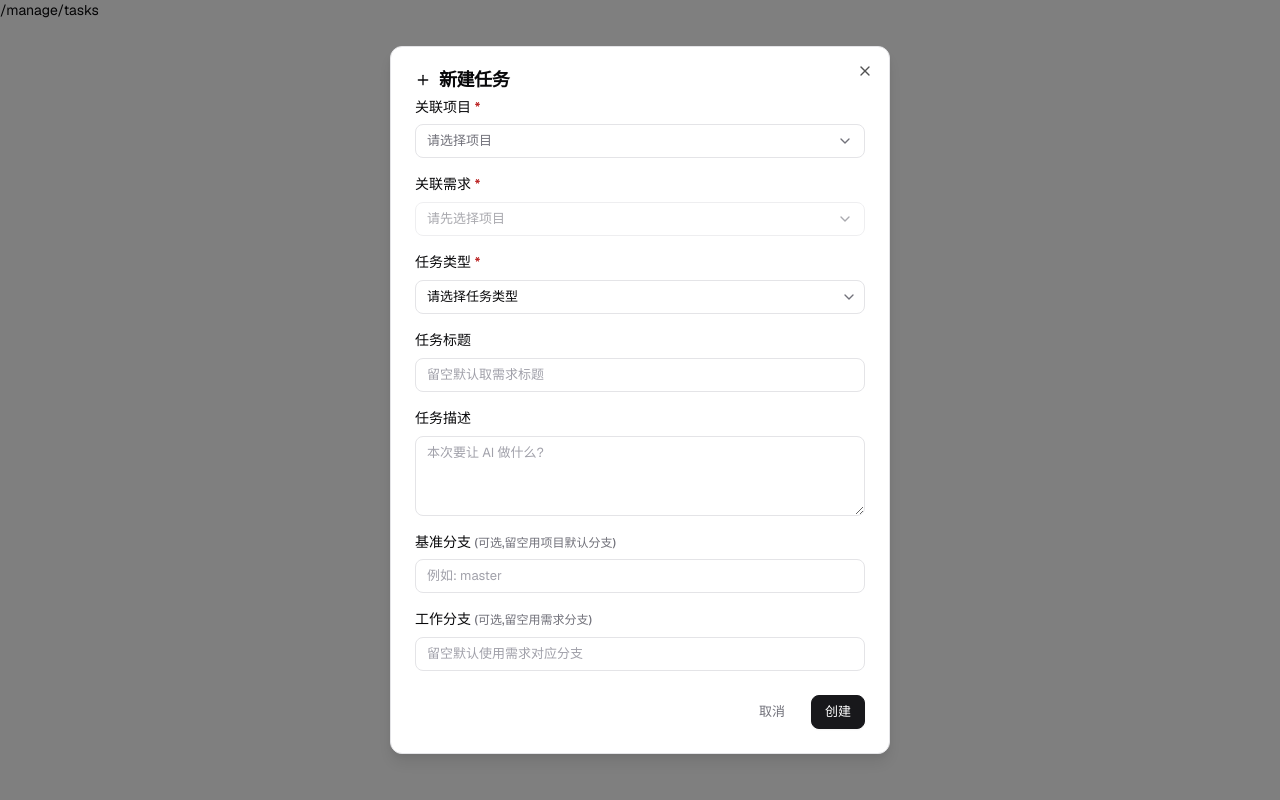
Test: R4 统一表单结构(TaskCreateDialog) › 6. 接口返回错误:显示「创建失败:…」Alert,对话框不关闭、表单保持
This screenshot has width=1280, height=800.
Click the button "请选择项目" at (460, 141), box x1=415 y1=124 x2=865 y2=158
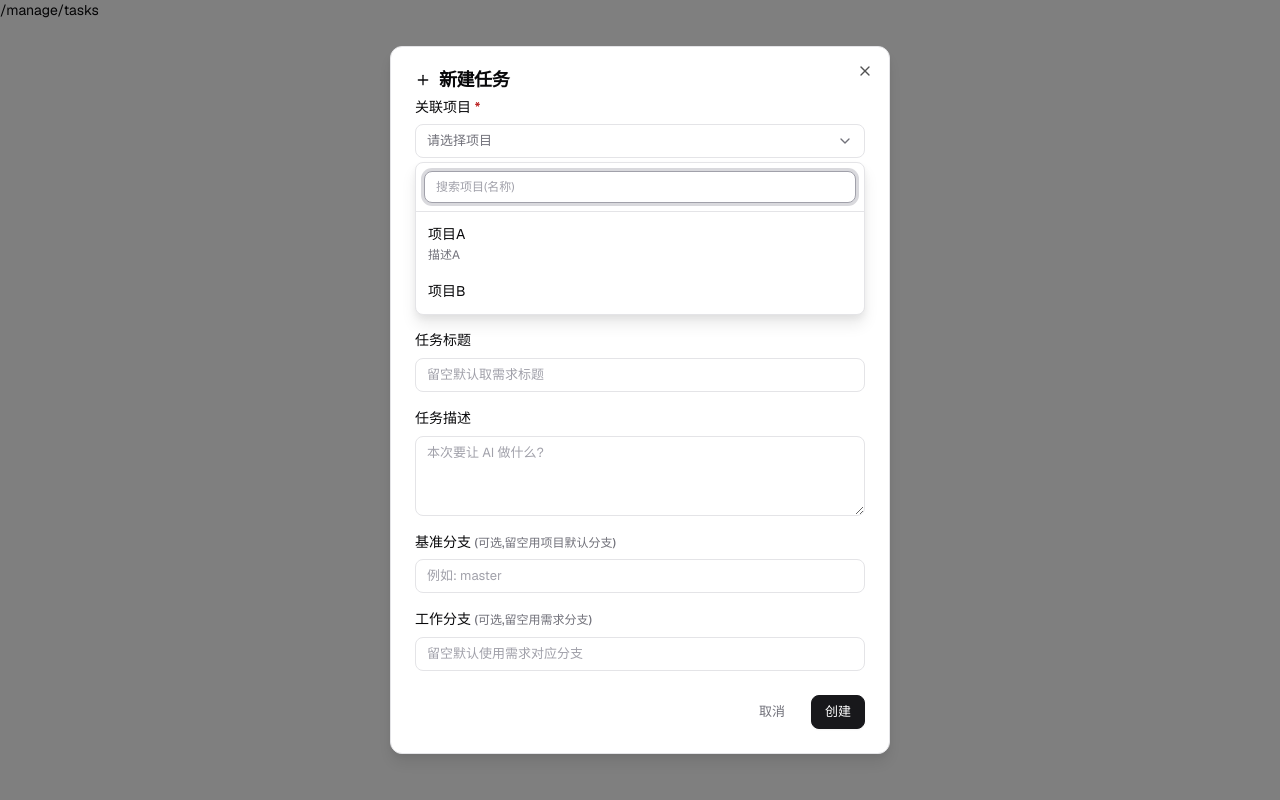
Click the text "项目A" at (447, 234), box x1=428 y1=225 x2=465 y2=243
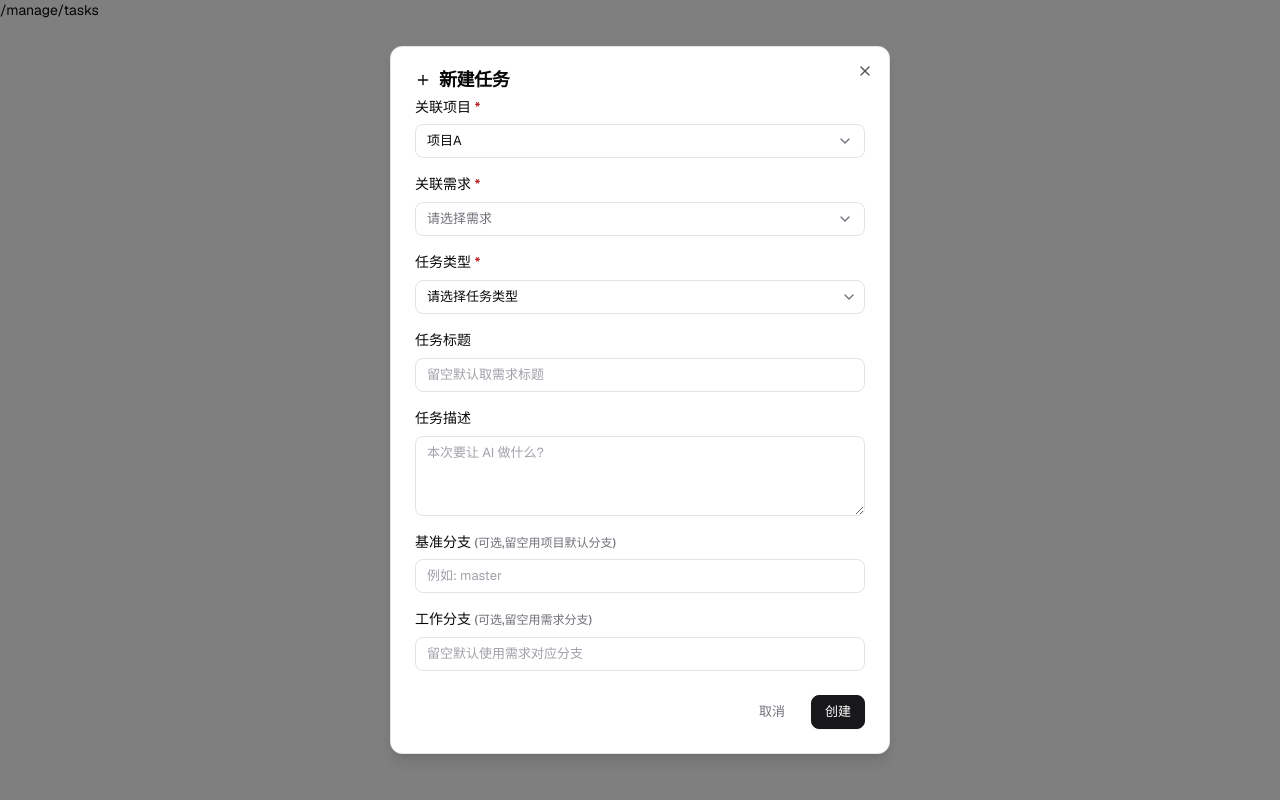
Click the button "请选择需求" at (460, 219), box x1=415 y1=202 x2=865 y2=236
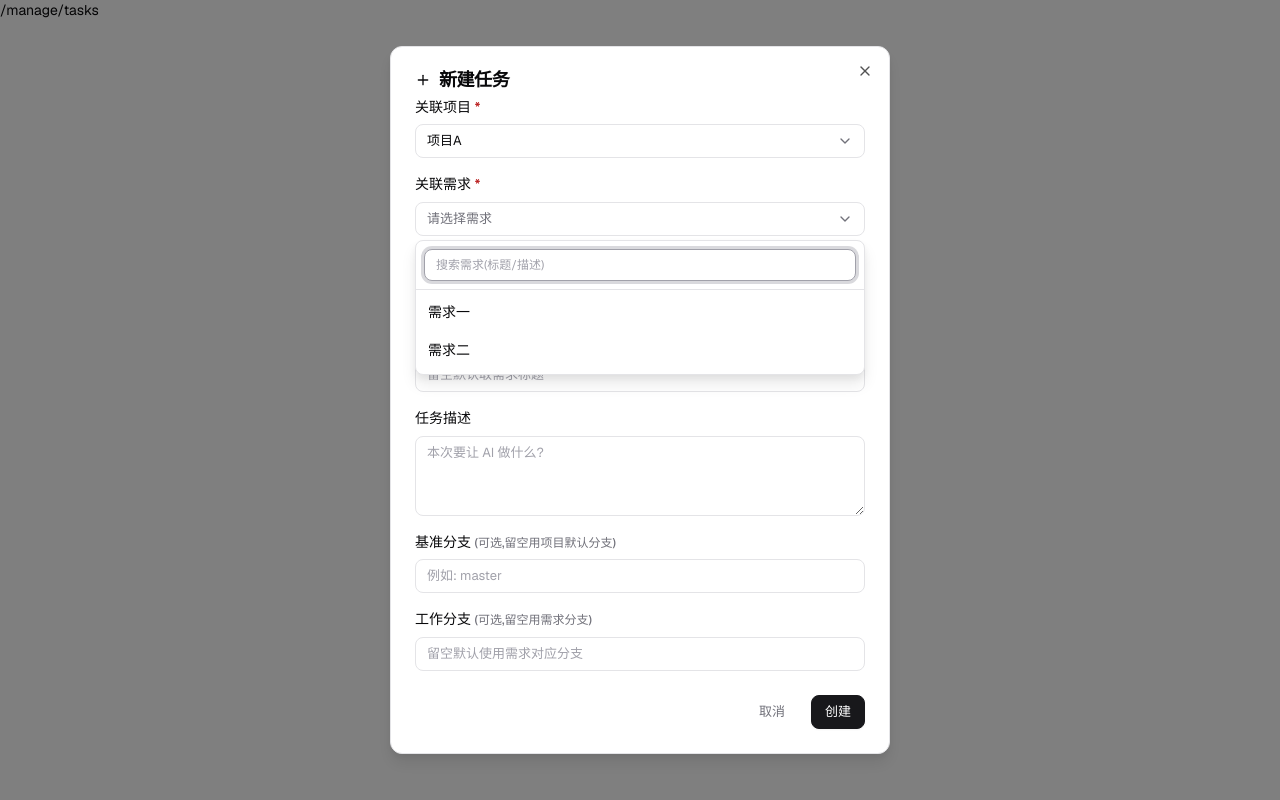
Click the button "需求一" at (449, 312), box x1=416 y1=294 x2=864 y2=332
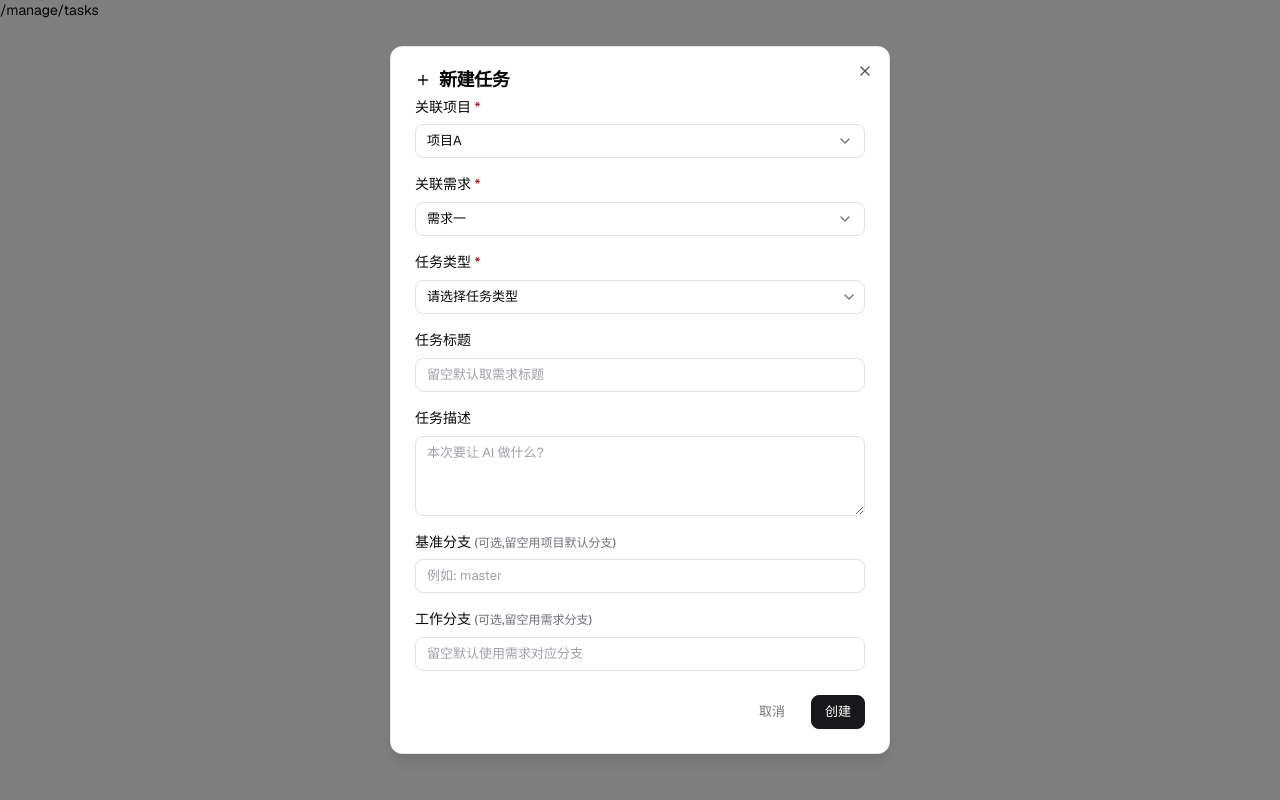
Select "开发" in the dropdown at (640, 297), box x1=415 y1=280 x2=865 y2=314
Type "统一表单标题" into the field with placeholder "留空默认取需求标题" at (640, 375), box x1=415 y1=358 x2=865 y2=392
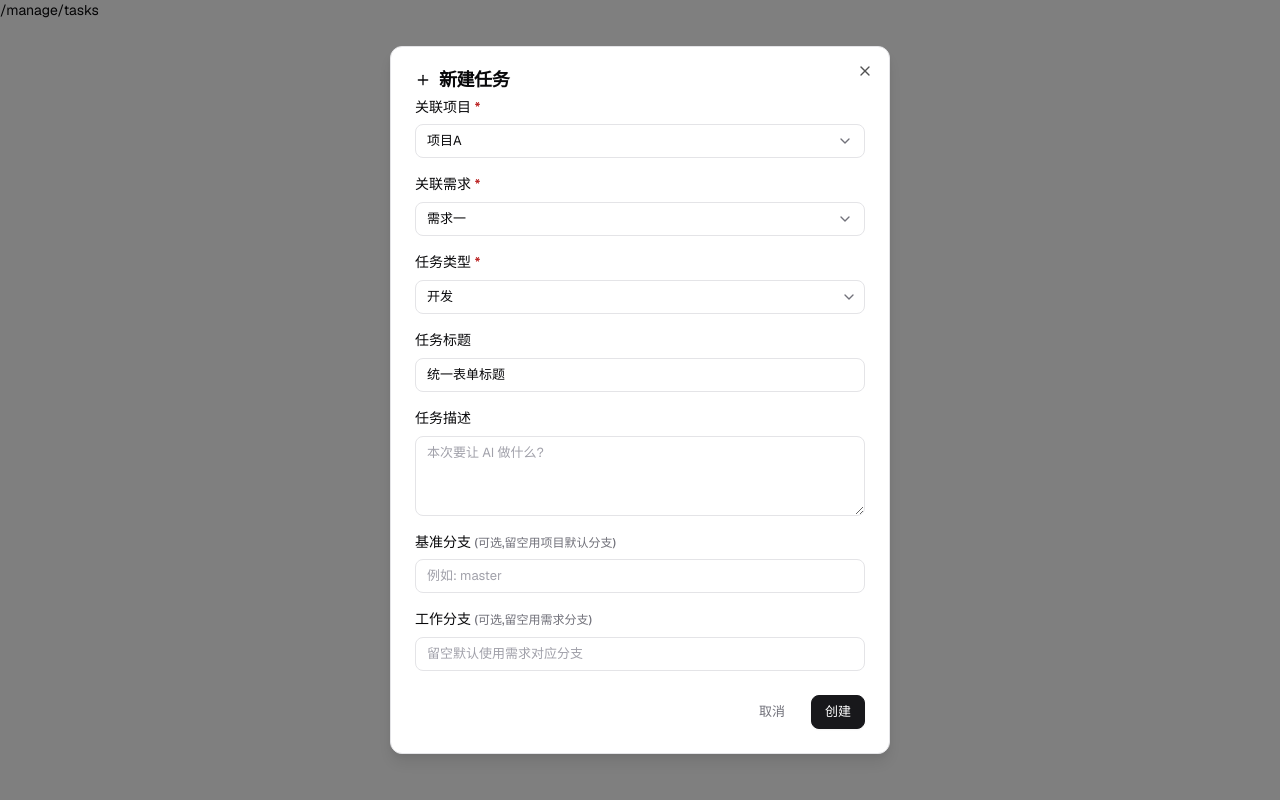
Click the button "创建" at (838, 712), box x1=811 y1=695 x2=865 y2=729
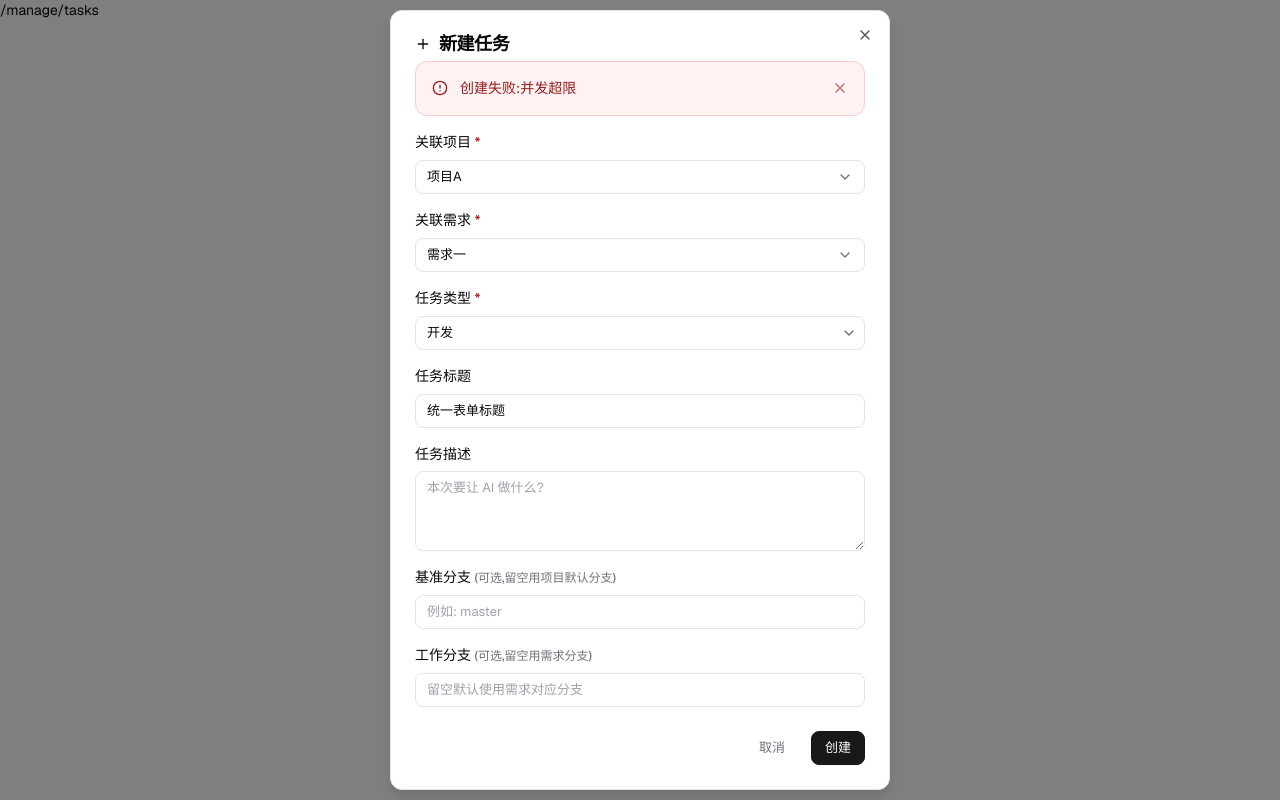
Check: the text "创建失败:并发超限" is shown, box x1=460 y1=79 x2=576 y2=97
